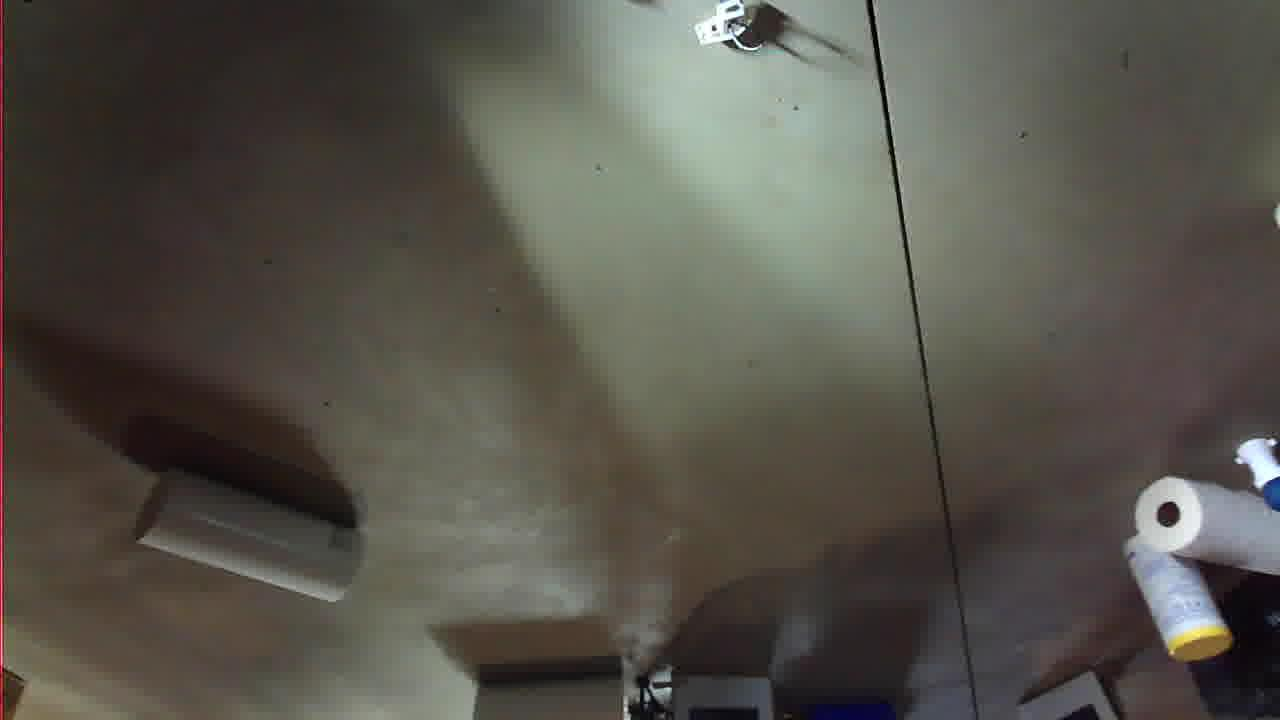coral: (918, 117, 1148, 251), (655, 0, 806, 44)
